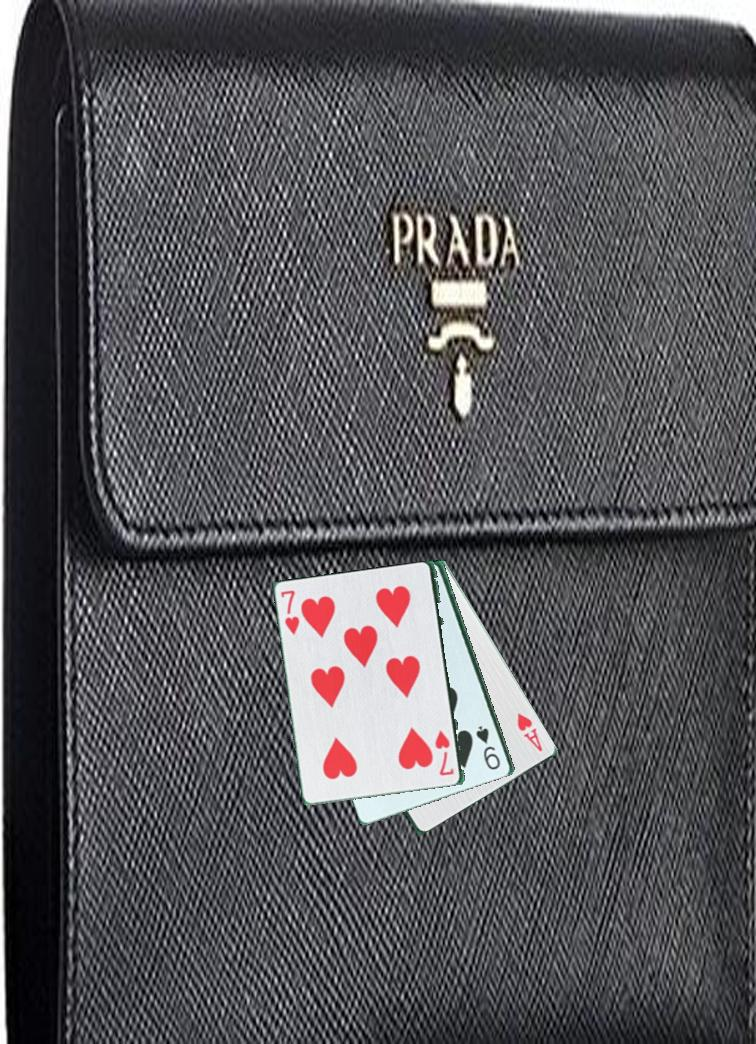7h: (277, 583, 306, 641), (433, 727, 457, 782)
9s: (474, 722, 504, 773)
ah: (514, 708, 546, 755)
